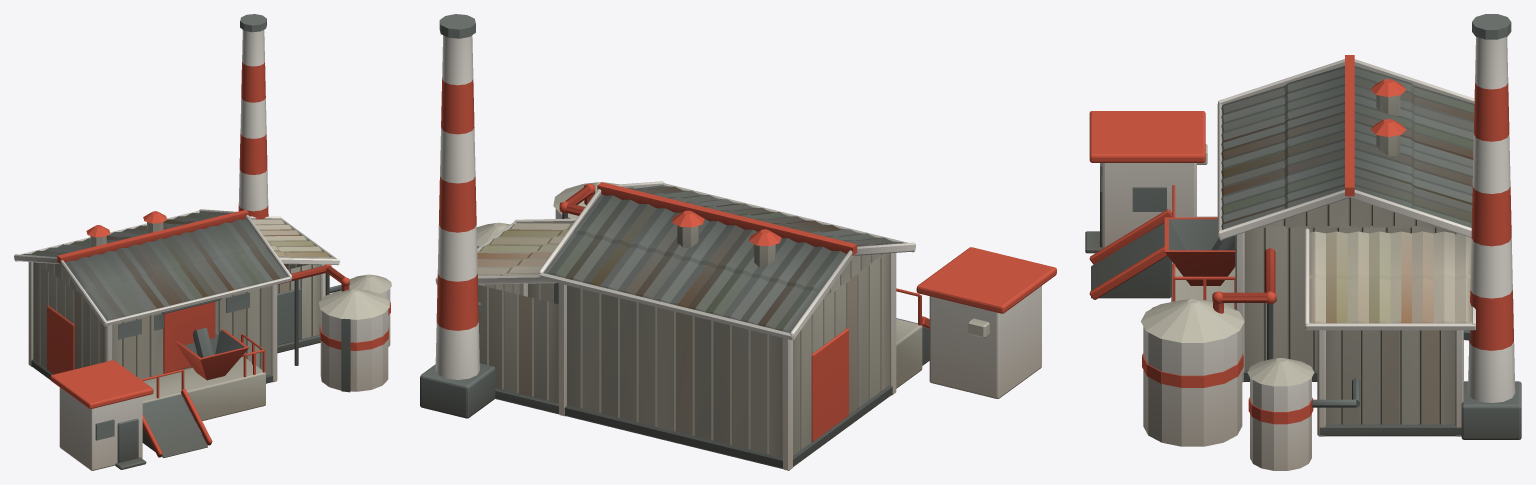
Rendered from pabrik.glb.
The picture shows the model from 3 angles, left to right: view 1: azimuth 30°, elevation 25°; view 2: azimuth 150°, elevation 25°; view 3: azimuth 270°, elevation 25°; orthographic projection. The views are drawn at different scales.
Parts seen in each view (by area): view 1: pabrik_mesh; view 2: pabrik_mesh; view 3: pabrik_mesh.
Boxes of the visible parts, x1,y1,x2,y2 form: pabrik_mesh: (14, 14, 391, 470); pabrik_mesh: (420, 14, 1056, 470); pabrik_mesh: (1085, 14, 1521, 470).
Bounding box in the file's own units: 14.16 × 10.43 × 10.15.
